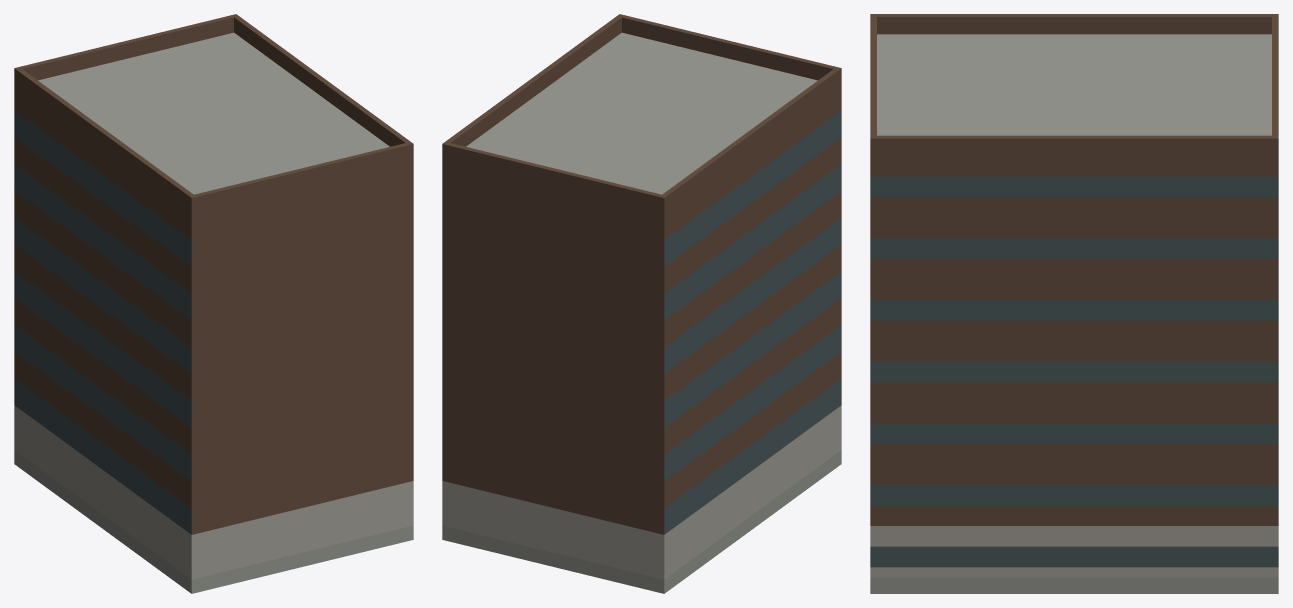
File: far.fbx
The picture shows the model from 3 angles, left to right: view 1: azimuth 30°, elevation 25°; view 2: azimuth 150°, elevation 25°; view 3: azimuth 270°, elevation 25°; orthographic projection. The views are drawn at different scales.
Parts seen in each view (by area): view 1: a2001/800/far; view 2: a2001/800/far; view 3: a2001/800/far.
Boxes of the visible parts, left/top/right/bottom form: a2001/800/far: left=14, top=14, right=413, bottom=593; a2001/800/far: left=442, top=14, right=841, bottom=593; a2001/800/far: left=870, top=14, right=1278, bottom=593.
Bounding box in the file's own units: 13 × 22.15 × 18.
